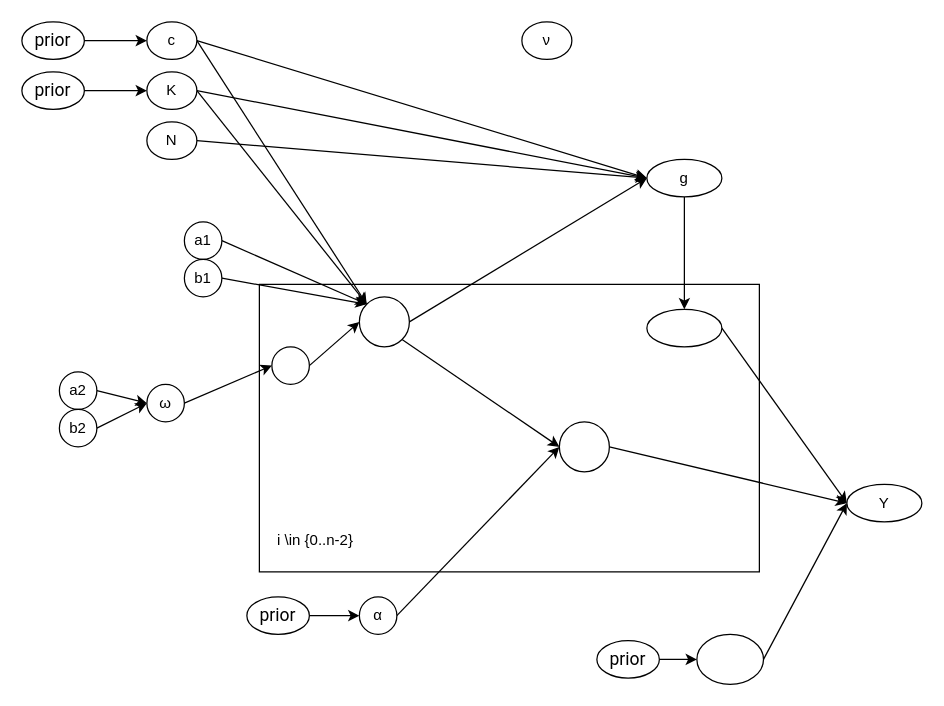
This 944x706 diagram has some shape labels left out. The centre of each missing label's shape, as x and y in pixels:
t_i: point (684, 327)
η_i: point (290, 365)
λ_i: point (383, 321)
Π_a: point (730, 658)
ρ_i: point (583, 446)
